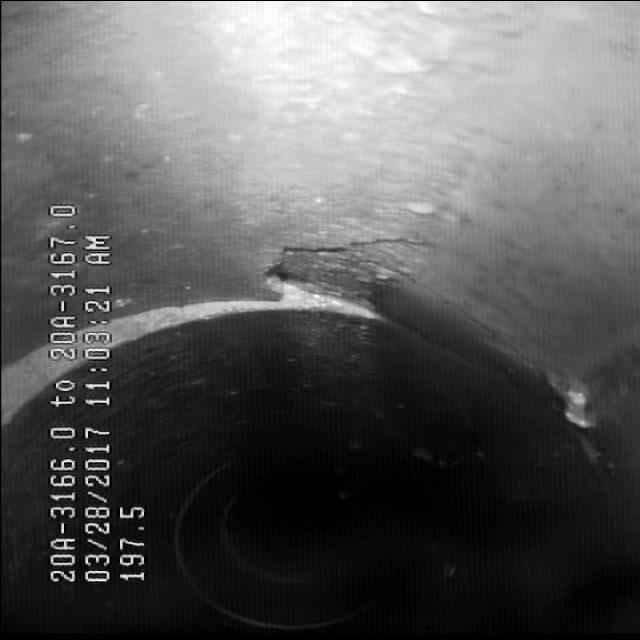Fracture: (238, 186, 452, 312)
